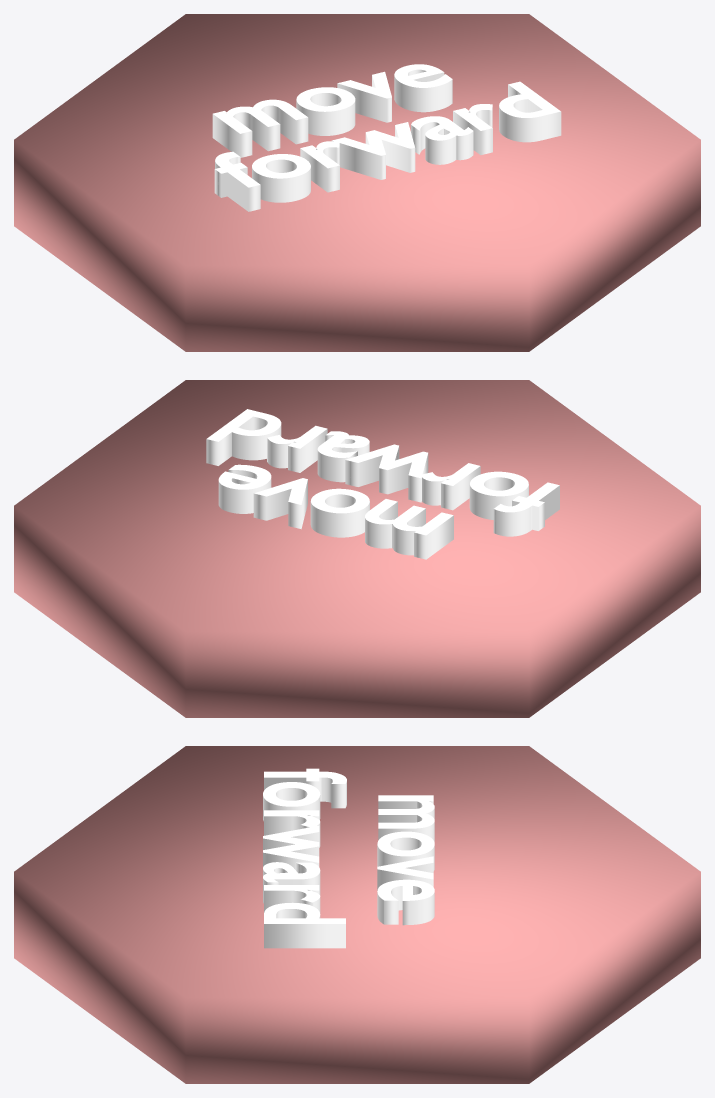
The model's file is moveforward.glb.
3 renders of one model, top to bottom at view 1: azimuth 30°, elevation 25°; view 2: azimuth 150°, elevation 25°; view 3: azimuth 270°, elevation 25°, orthographic.
Visible parts, largest first — view 1: MoveForward_Button, MoveForward_Text; view 2: MoveForward_Button, MoveForward_Text; view 3: MoveForward_Button, MoveForward_Text.
Part boxes in pixels (box(x1,y1,x2,y2)): MoveForward_Button: box(14, 14, 700, 351); MoveForward_Text: box(212, 64, 561, 211); MoveForward_Button: box(14, 380, 700, 717); MoveForward_Text: box(206, 409, 559, 559); MoveForward_Button: box(14, 746, 700, 1083); MoveForward_Text: box(263, 768, 434, 948).
Size of the model in its own units: 3.12 by 0.64 by 3.6.
